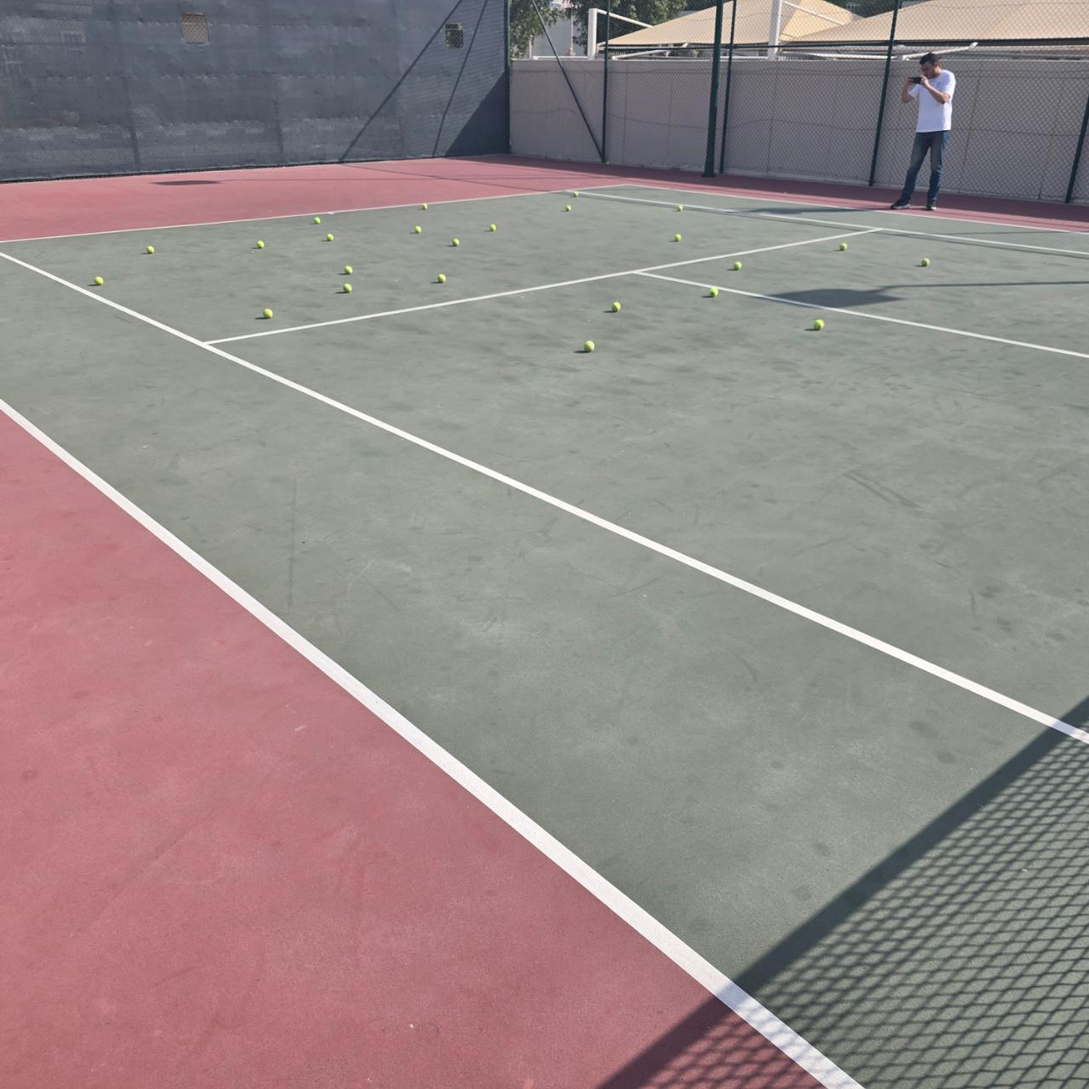tennis-ball: (582, 338, 595, 352), (812, 316, 824, 330), (918, 255, 930, 267), (707, 286, 718, 299), (262, 305, 273, 317), (342, 263, 353, 275), (92, 274, 103, 285), (145, 245, 155, 255), (612, 301, 621, 312), (437, 273, 446, 284), (343, 283, 352, 293), (733, 261, 742, 271), (256, 241, 267, 249), (325, 233, 334, 242), (838, 242, 847, 251), (452, 238, 460, 248), (414, 225, 422, 234), (673, 233, 681, 242), (489, 223, 496, 233), (313, 217, 322, 224), (677, 204, 684, 212), (421, 203, 428, 210), (565, 205, 572, 212), (572, 192, 579, 198), (606, 161, 610, 165)
